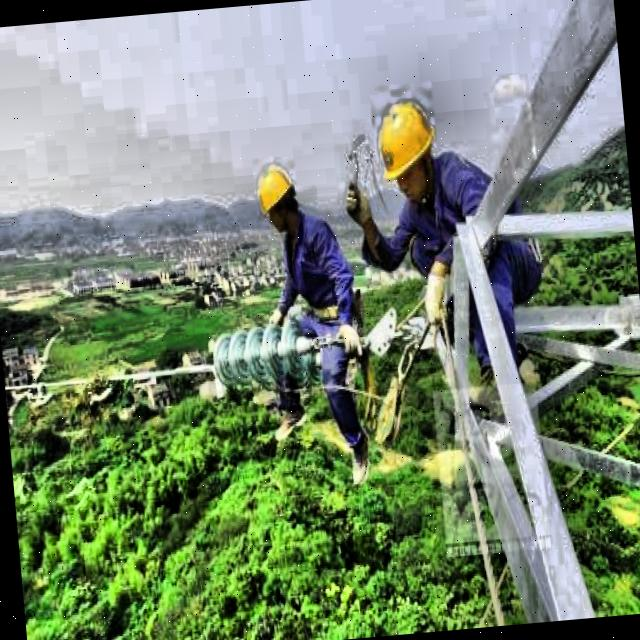helmet: (369, 85, 448, 215), (251, 156, 304, 244)
